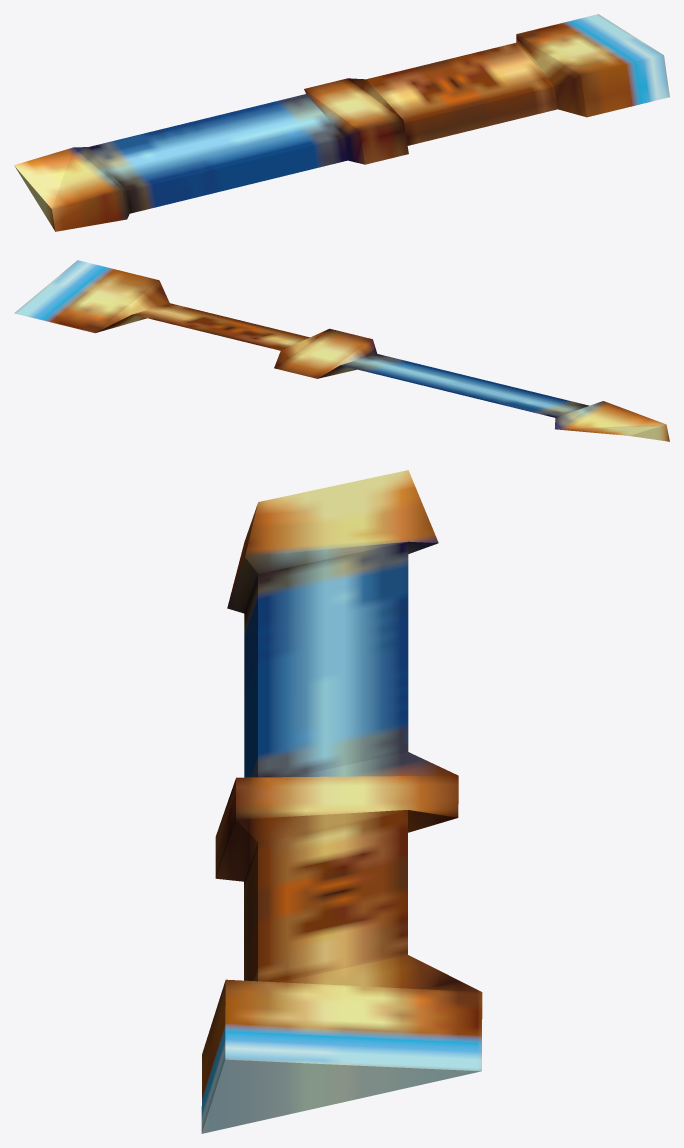
3 views of the same model, one above another, from view 1: azimuth 30°, elevation 25°; view 2: azimuth 150°, elevation 25°; view 3: azimuth 270°, elevation 25° (orthographic). The views are drawn at different scales.
Visible parts, largest first — view 1: aw208; view 2: aw208; view 3: aw208.
Boxes of the visible parts, x1=… form: aw208: x1=14, y1=14, x2=669, y2=231; aw208: x1=14, y1=260, x2=669, y2=441; aw208: x1=201, y1=470, x2=482, y2=1133.
Bounding box in the file's own units: 17.14 × 1.12 × 3.49.
Materials: 1 (1 with a texture image).
